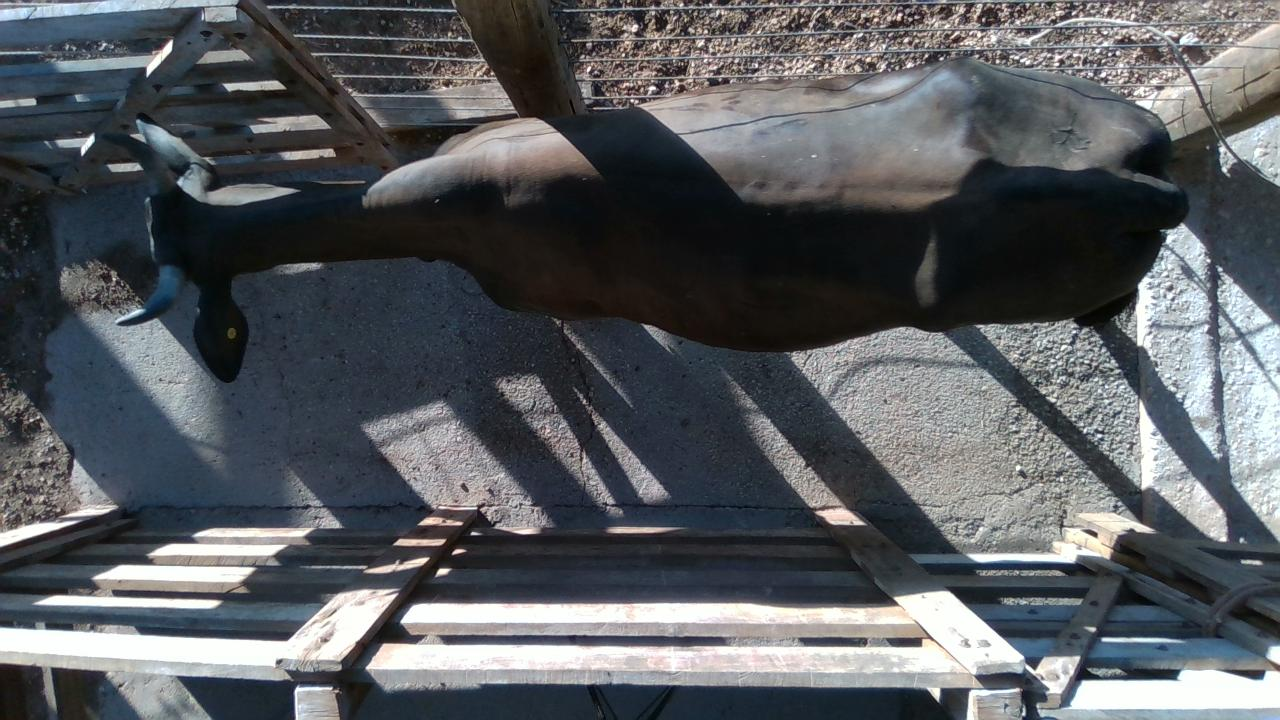cattle: (101, 56, 1189, 382)
